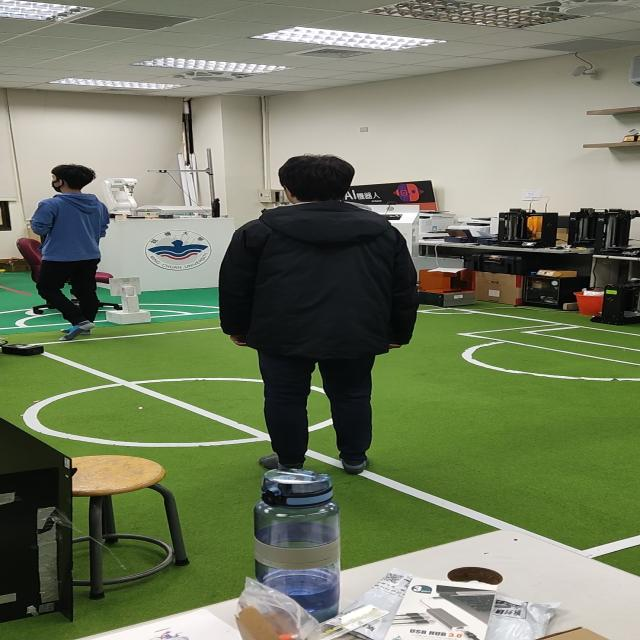person: (209, 148, 427, 464), (16, 159, 122, 337)
